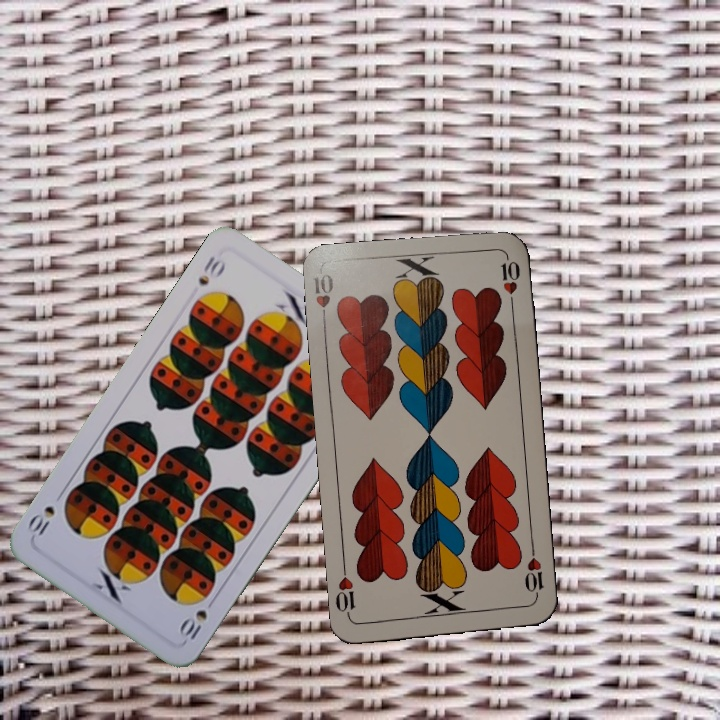H10: (310, 270, 337, 329), (520, 544, 546, 603)
S10: (175, 593, 219, 646), (194, 251, 229, 288)
